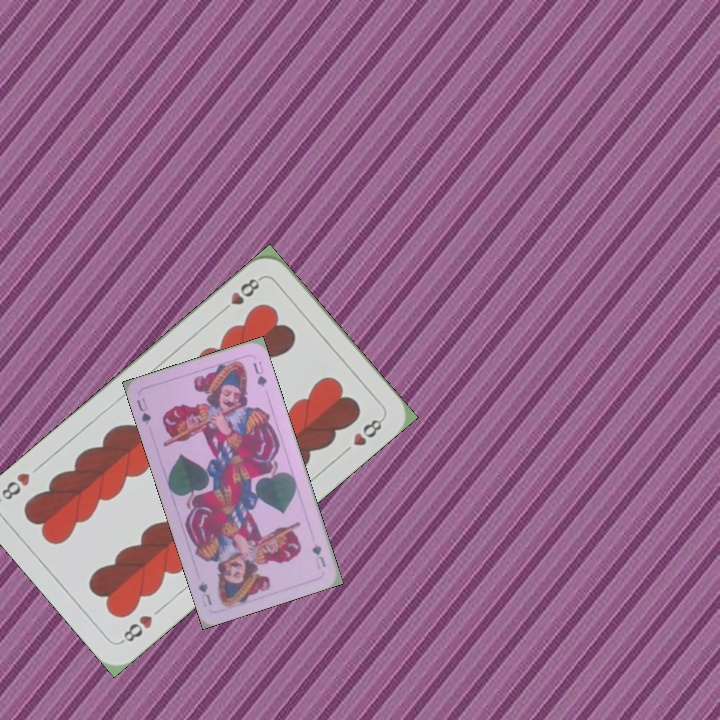GU: (132, 394, 154, 427), (308, 540, 329, 572)
H8: (216, 273, 265, 316), (117, 611, 156, 646)
